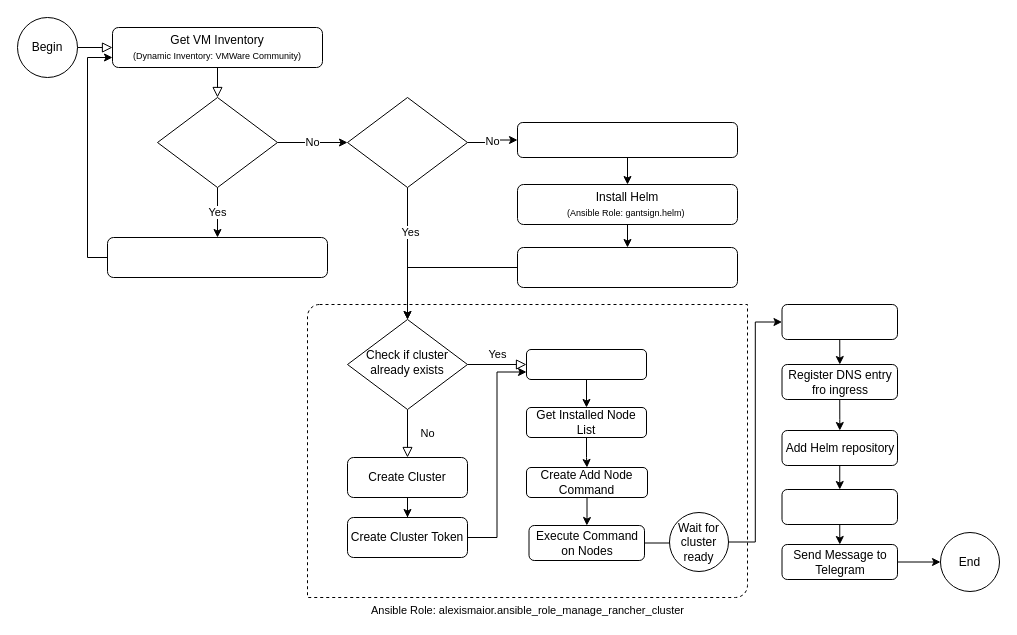
Image size: 1017x635. Some labels were removed from this diagram. Each missing label, with the centre of its shape:
Check if node(s) is already in a Cluster: point (407, 142)
Deploy Helm chart(s) on Cluster: point (839, 506)
Get Cluster ID: point (586, 364)
Get kubeconfig from new Cluster: point (839, 322)
Install Docker (Ansible Role: ericsysmin.docker.docker): point (627, 140)
Install Kubectl (Ansible Role: andrewrothstein.kubectl): point (627, 267)
Inventory Empty?: point (217, 142)
Provision VM (Ansible Role: jtyr.ansible_vmware_vm_provisioning): point (217, 257)
